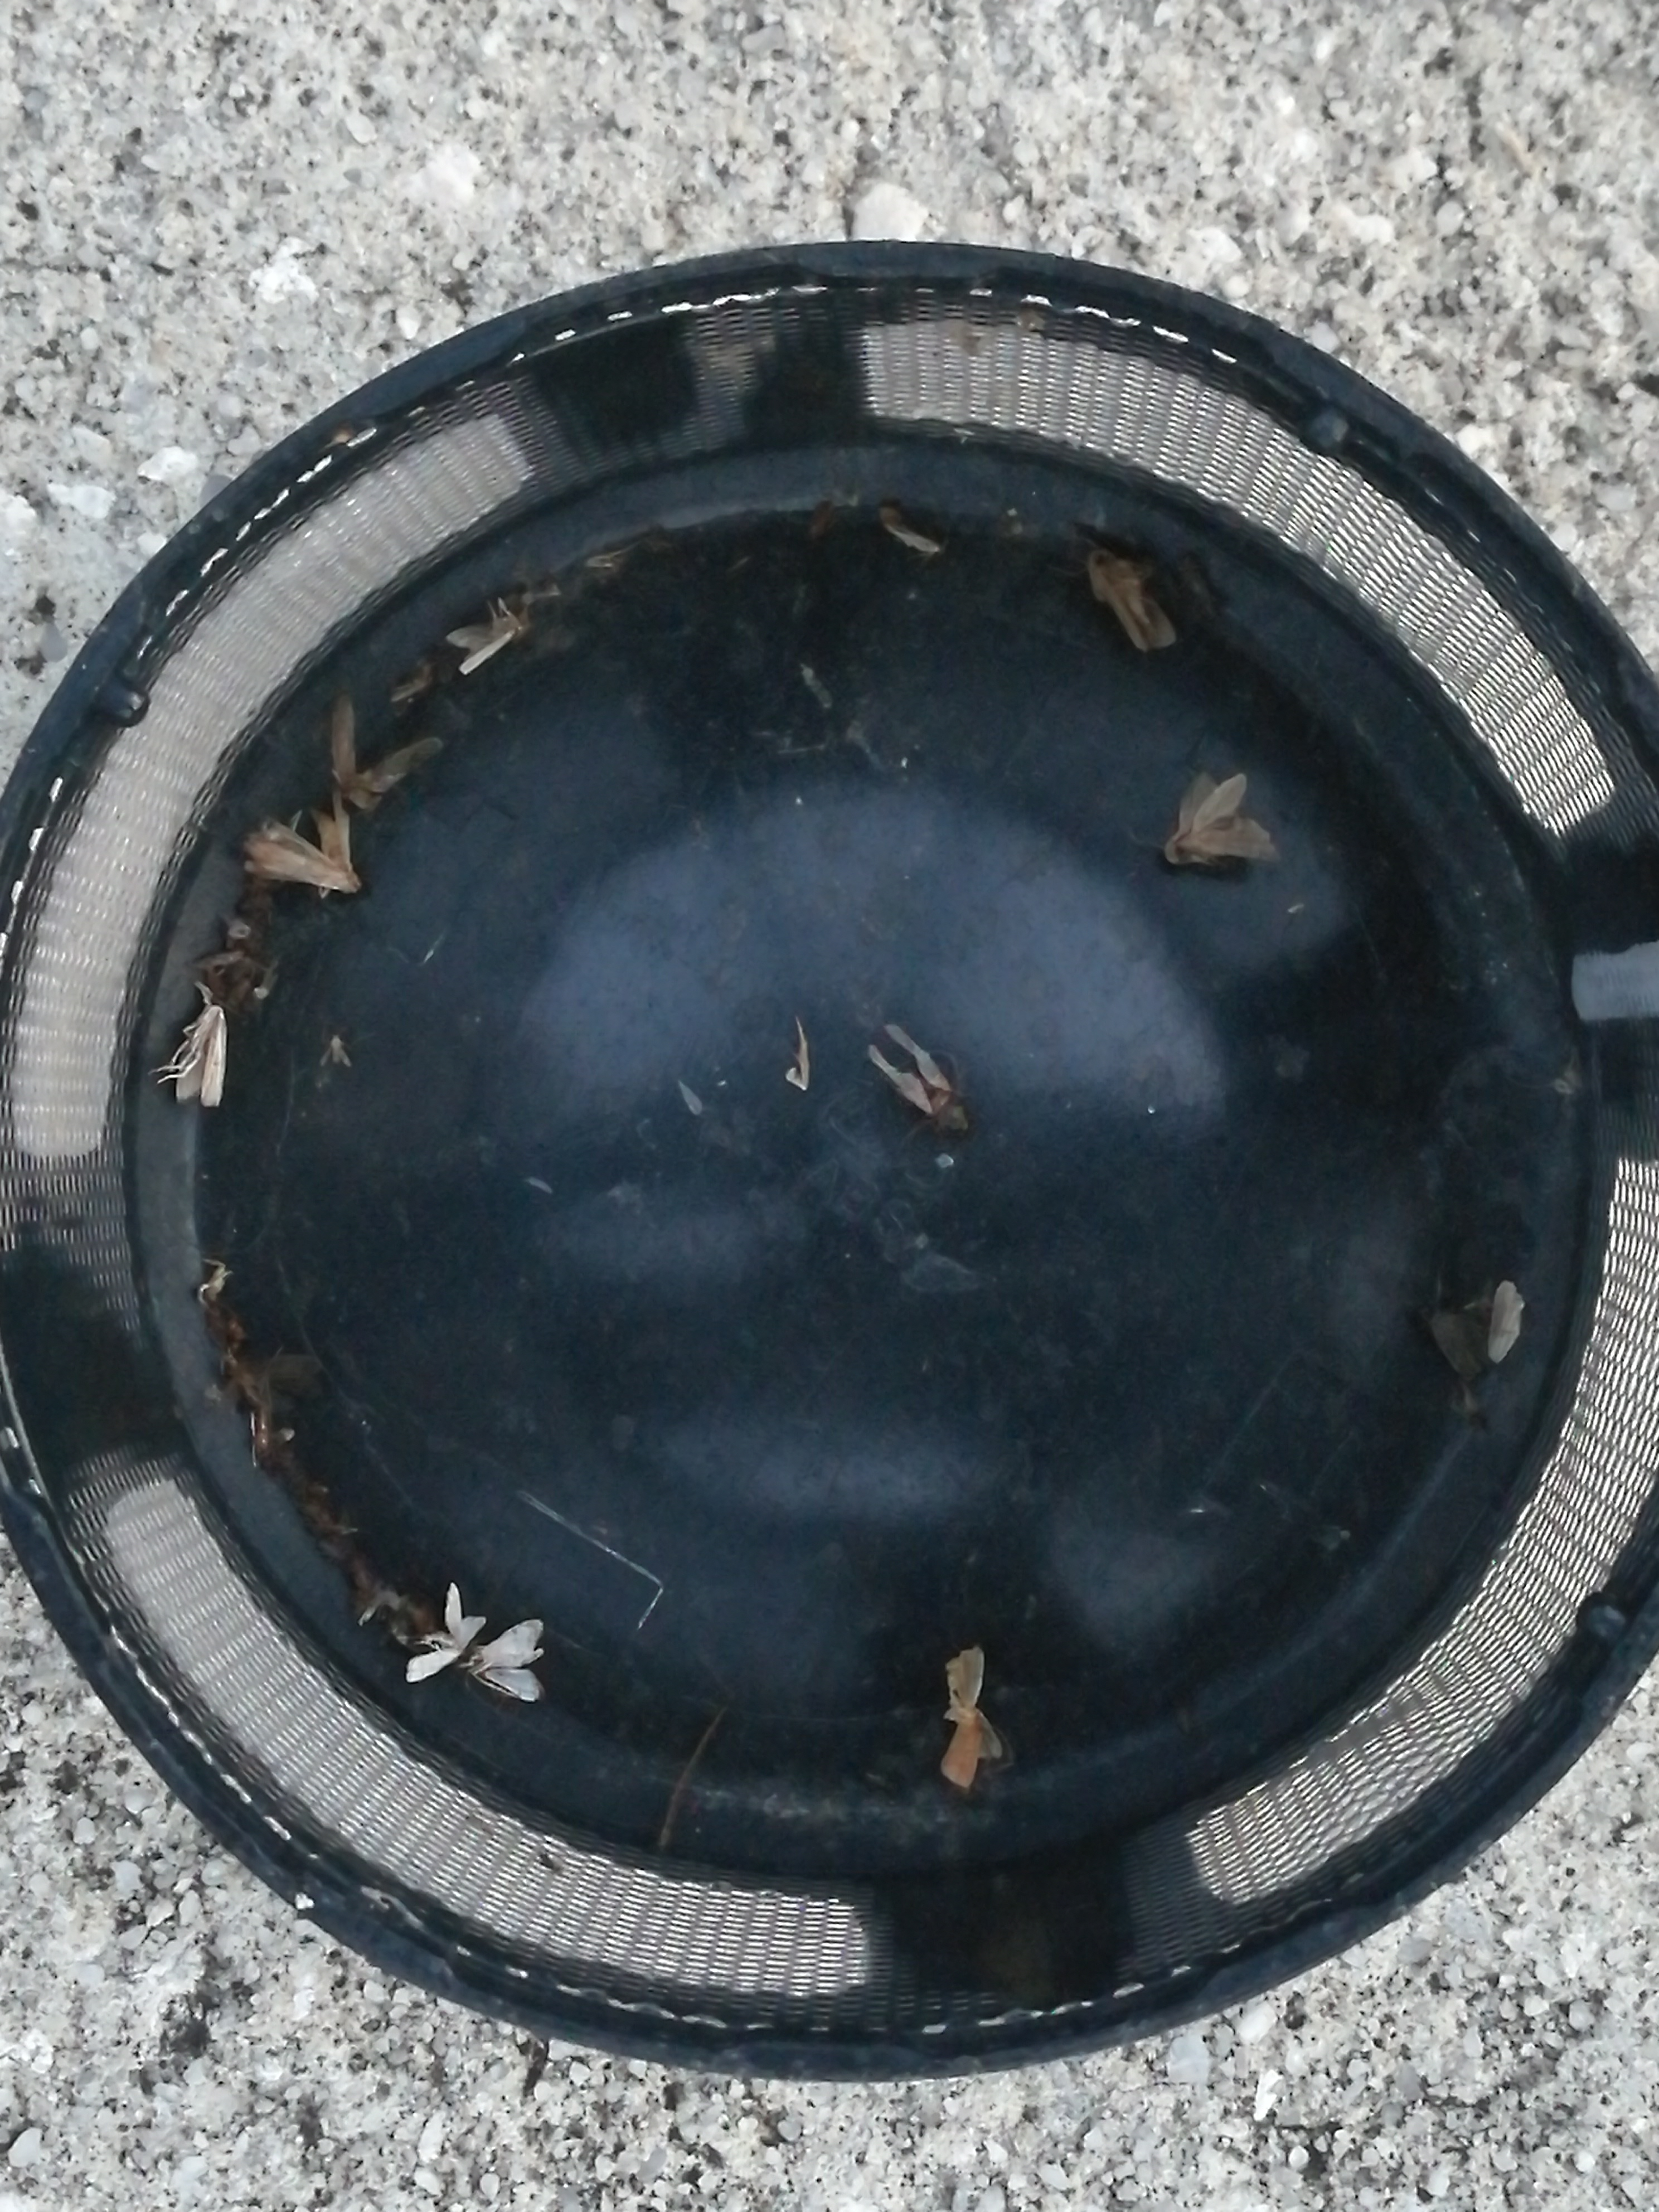mosquito: (450, 604, 525, 671)
moth: (1162, 773, 1279, 869), (333, 698, 441, 798), (868, 1028, 967, 1136), (251, 801, 357, 894), (1096, 550, 1175, 651), (404, 1585, 477, 1684), (477, 1618, 540, 1695)
